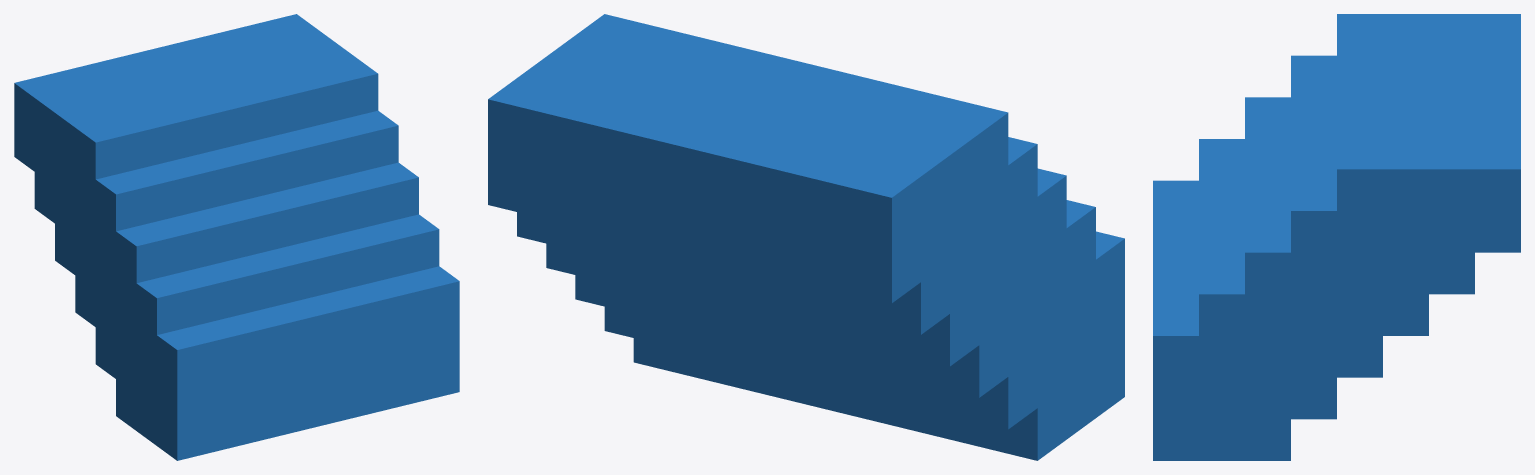
Rendered from TorsoCrouch.glb.
3 views of the same model, side by side, from view 1: azimuth 30°, elevation 25°; view 2: azimuth 150°, elevation 25°; view 3: azimuth 270°, elevation 25° (orthographic). The views are drawn at different scales.
Visible parts, largest first — view 1: TorsoCrouch; view 2: TorsoCrouch; view 3: TorsoCrouch.
Boxes of the visible parts, x1,y1,x2,y2 form: TorsoCrouch: [14, 14, 459, 460]; TorsoCrouch: [488, 14, 1124, 460]; TorsoCrouch: [1153, 14, 1520, 460].
Size of the model in its own units: 8 by 7 by 8.
